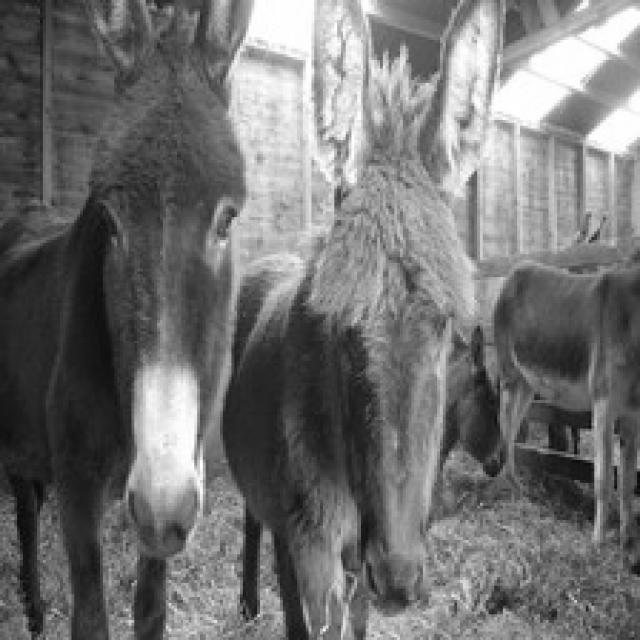Donkey: (217, 0, 514, 637), (0, 0, 257, 637), (489, 232, 637, 574), (426, 320, 503, 520)
